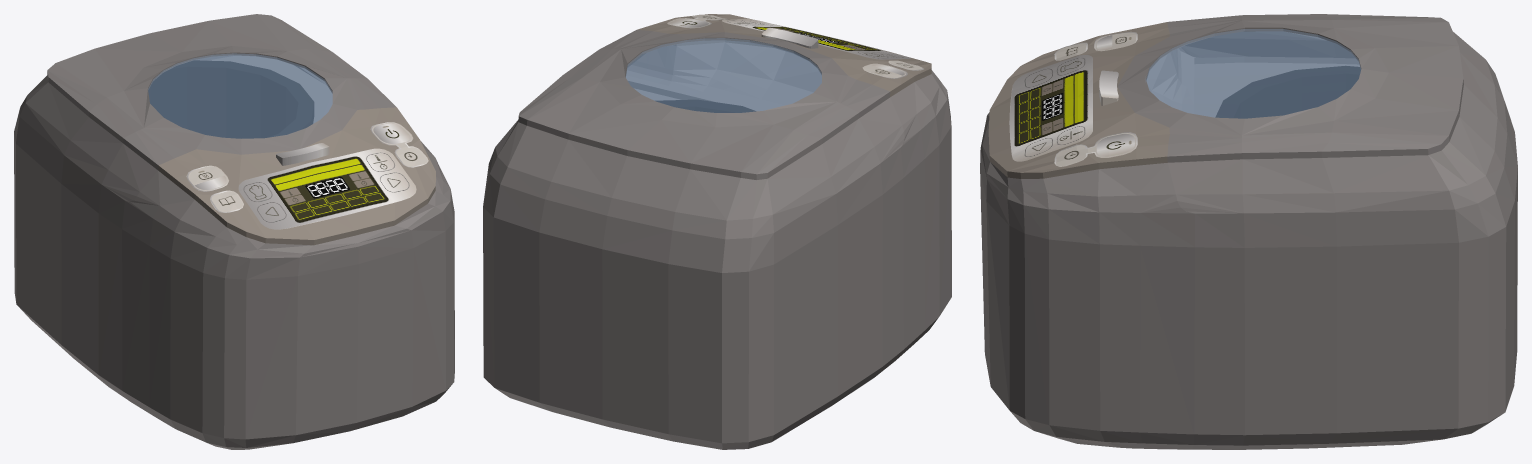
File: cooker.obj
The picture shows the model from 3 angles, left to right: view 1: azimuth 30°, elevation 25°; view 2: azimuth 150°, elevation 25°; view 3: azimuth 270°, elevation 25°; orthographic projection. The views are drawn at different scales.
Parts seen in each view (by area): view 1: Base_Cube, sweethome3d_opening_on_hinge_1_top, sweethome3d_opening_on_hinge_1_glass, pot_Circle, Controls_Plane, Controls2_Plane.002, Button_Plane.001; view 2: Base_Cube, sweethome3d_opening_on_hinge_1_top, sweethome3d_opening_on_hinge_1_glass, Controls_Plane, Controls2_Plane.002, pot_Circle, Button_Plane.001; view 3: Base_Cube, sweethome3d_opening_on_hinge_1_top, sweethome3d_opening_on_hinge_1_glass, Controls_Plane, pot_Circle, Controls2_Plane.002, Button_Plane.001.
Part boxes in pixels (x1,y1,x2,y2): Base_Cube: (14, 56, 454, 449); sweethome3d_opening_on_hinge_1_top: (19, 14, 396, 201); sweethome3d_opening_on_hinge_1_glass: (148, 53, 332, 138); pot_Circle: (148, 60, 313, 138); Controls_Plane: (238, 148, 416, 229); Controls2_Plane.002: (186, 122, 428, 212); Button_Plane.001: (276, 143, 329, 165); Base_Cube: (483, 14, 951, 449); sweethome3d_opening_on_hinge_1_top: (489, 29, 904, 239); sweethome3d_opening_on_hinge_1_glass: (626, 38, 821, 112); Controls_Plane: (722, 18, 910, 59); Controls2_Plane.002: (667, 14, 923, 78); pot_Circle: (656, 100, 755, 112); Button_Plane.001: (761, 27, 818, 48); Base_Cube: (980, 22, 1517, 449); sweethome3d_opening_on_hinge_1_top: (1117, 14, 1504, 213); sweethome3d_opening_on_hinge_1_glass: (1146, 29, 1360, 118); Controls_Plane: (1009, 55, 1092, 161); pot_Circle: (1215, 66, 1360, 118); Controls2_Plane.002: (1054, 31, 1137, 166); Button_Plane.001: (1099, 70, 1118, 105).
Bounding box in the file's own units: 28.94 × 27.06 × 39.98.
